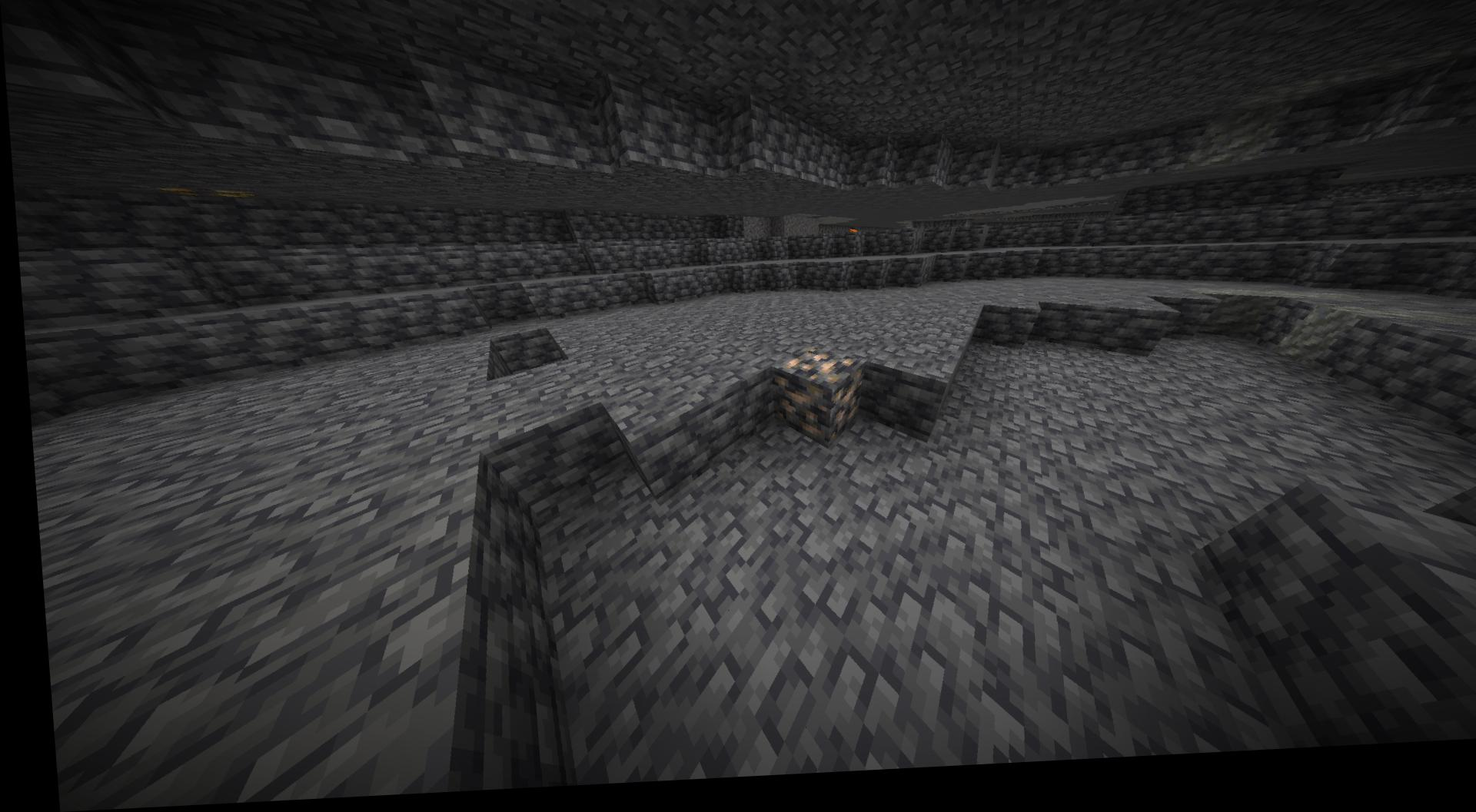iron ore: (767, 354, 865, 450)
